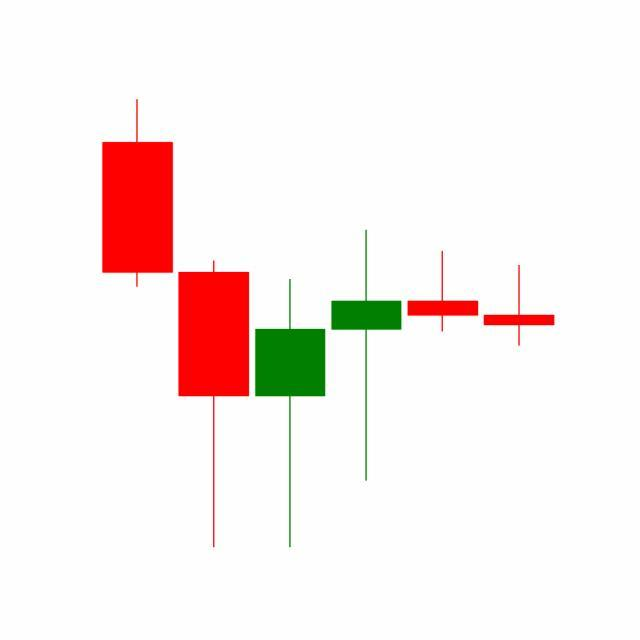Gravestone Doji: (404, 251, 482, 334)
